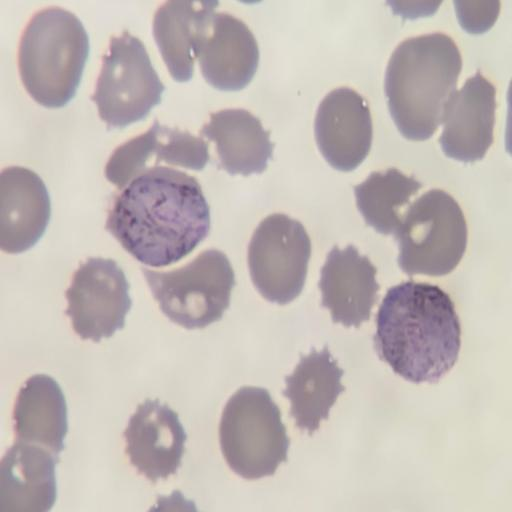Infected: (110, 166, 210, 270), (378, 280, 461, 384)
Uninfected: (387, 33, 464, 145), (16, 5, 87, 112), (93, 28, 166, 125), (147, 248, 233, 330), (219, 386, 291, 480), (398, 187, 464, 277), (279, 345, 345, 434), (317, 244, 381, 328), (69, 255, 133, 339), (440, 66, 496, 161), (124, 399, 187, 483), (247, 214, 307, 302), (316, 86, 374, 171), (352, 170, 421, 241), (154, 0, 211, 82), (200, 11, 258, 91), (0, 168, 51, 254), (206, 110, 272, 175), (16, 379, 70, 458), (0, 445, 59, 512), (104, 124, 164, 182), (149, 124, 211, 170)
